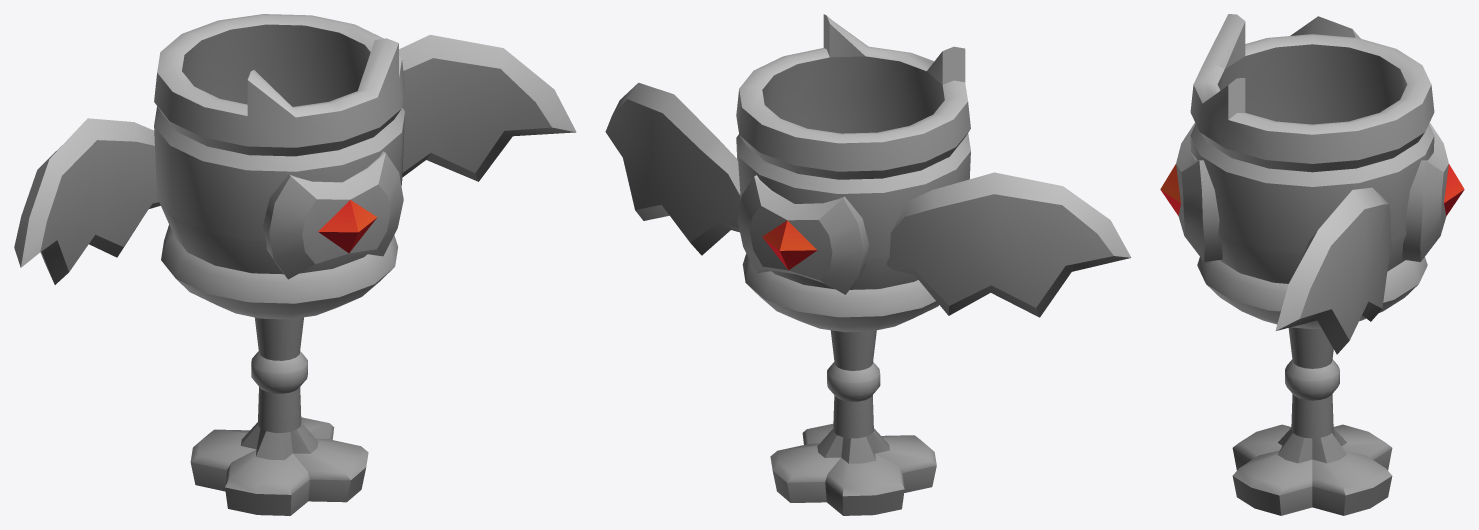
Rendered from vampire_goblet.glb.
The picture shows the model from 3 angles, left to right: view 1: azimuth 30°, elevation 25°; view 2: azimuth 150°, elevation 25°; view 3: azimuth 270°, elevation 25°; orthographic projection. The views are drawn at different scales.
Visible parts, largest first — view 1: Vampire_Goblet; view 2: Vampire_Goblet; view 3: Vampire_Goblet.
Part boxes in pixels (x1,y1,x2,y2): Vampire_Goblet: [14, 14, 576, 515]; Vampire_Goblet: [605, 14, 1131, 515]; Vampire_Goblet: [1160, 14, 1464, 515].
Bounding box in the file's own units: 0.924 × 0.7214 × 0.4547.
1 material, 1 textured.
